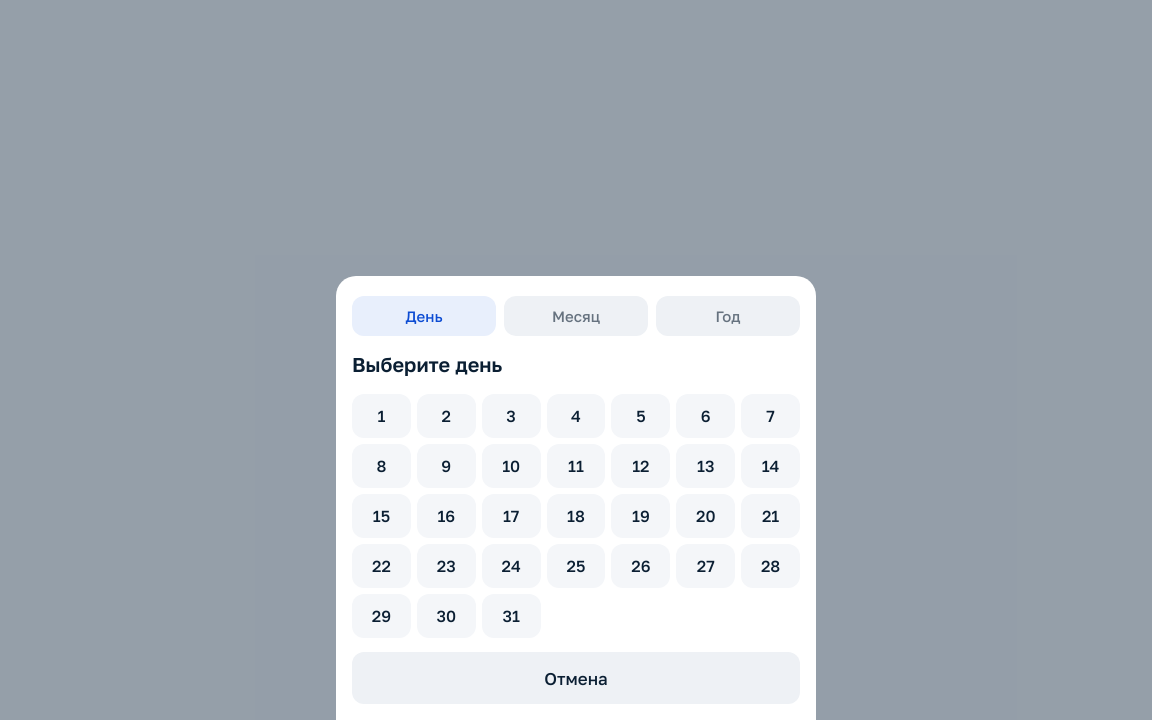
Test: BirthdayPicker › после 31-го нельзя выбрать месяц, где 30 дней, и февраль
Step 1. Click the button "31" → (511,616), box [482, 594, 541, 638]
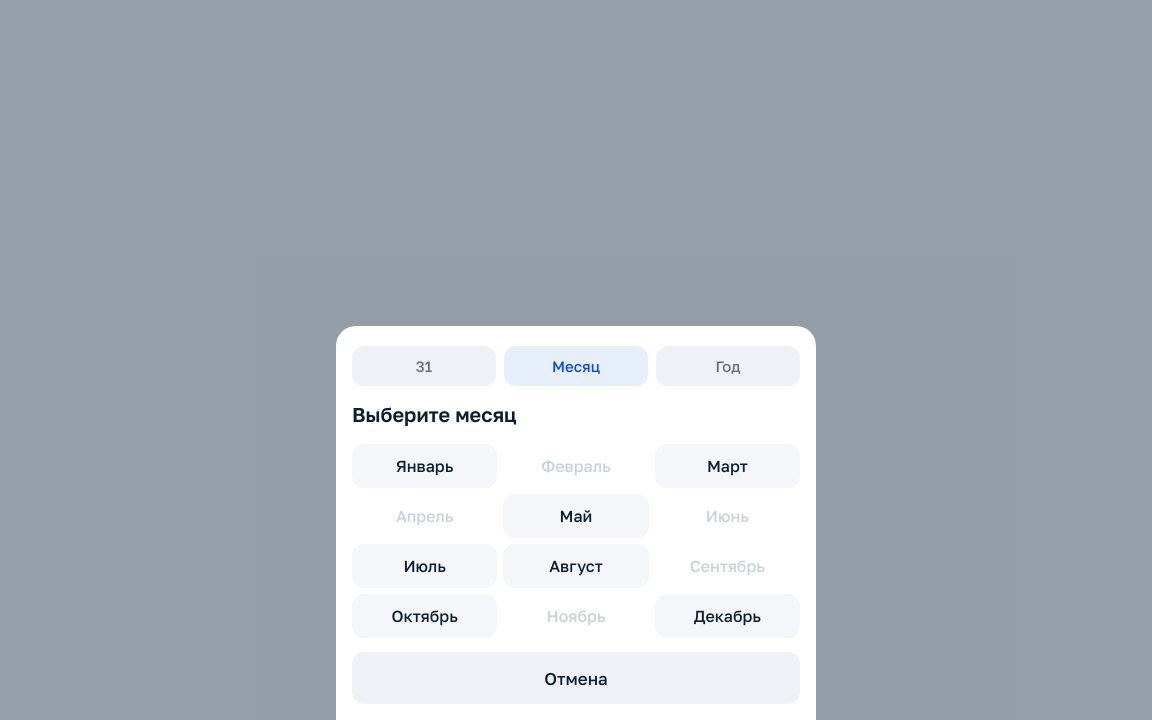
Expected: the button "Февраль" is disabled, [503, 444, 649, 488]
Expected: the button "Апрель" is disabled, [352, 494, 497, 538]
Expected: the button "Июнь" is disabled, [655, 494, 800, 538]
